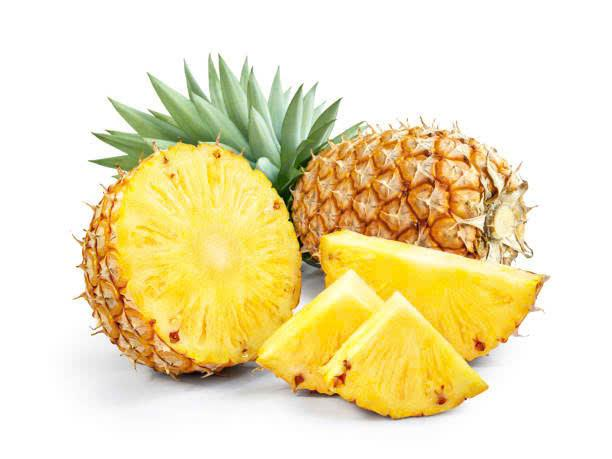pineapple: (69, 139, 301, 373), (263, 262, 493, 433), (292, 123, 538, 250)
